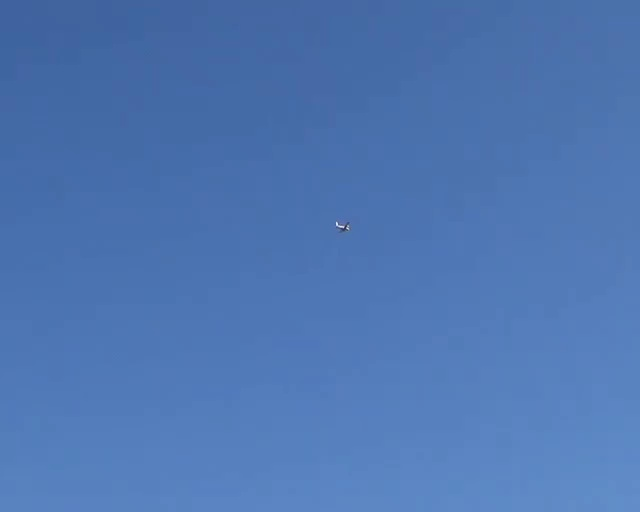AIRPLANE: (335, 220, 350, 232)
